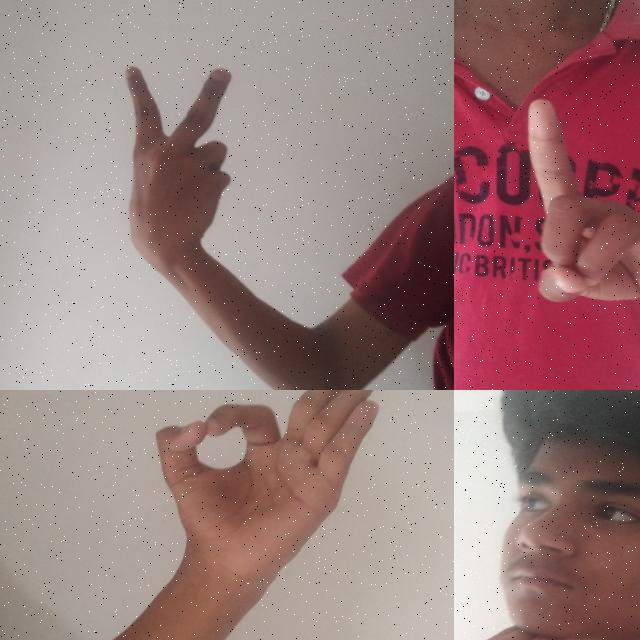Chin Flick: (454, 390, 640, 640)
Corna: (488, 90, 640, 339)
Okay: (121, 390, 396, 627)
Reversed Victory: (85, 44, 258, 296)
